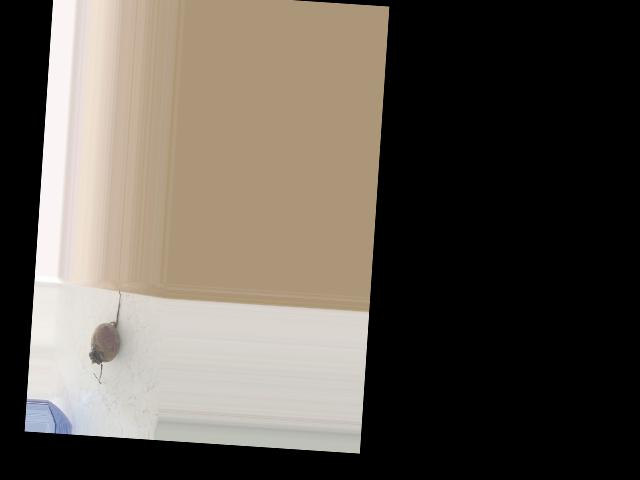beet: (88, 286, 123, 384)
